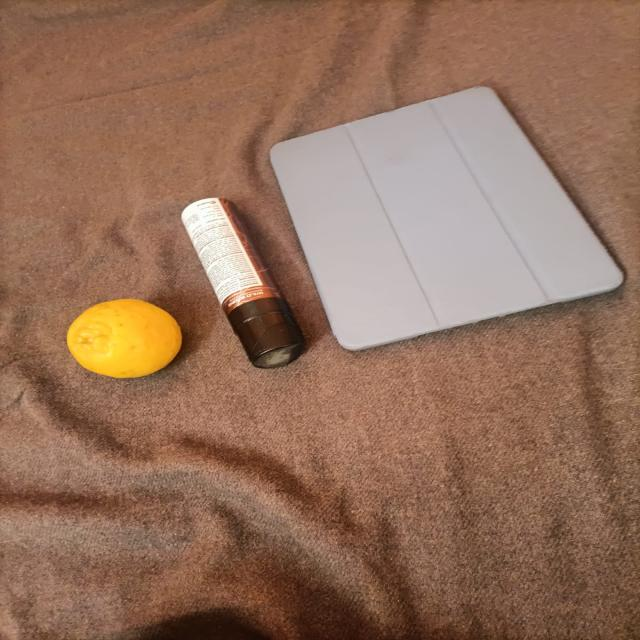orange: (51, 296, 199, 392)
spray: (164, 177, 322, 384)
tablet: (250, 37, 631, 367)
